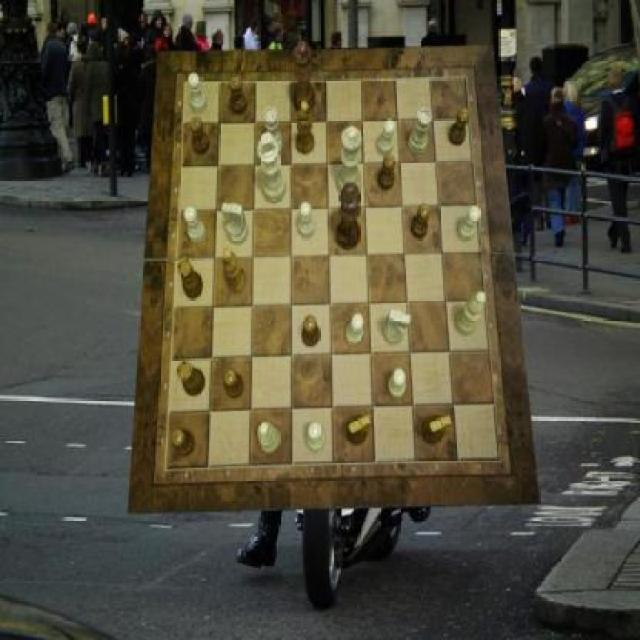bishop: (223, 248, 247, 294), (296, 101, 314, 156)
black-bishop: (337, 183, 361, 251)
black-king: (422, 414, 452, 444), (346, 414, 371, 446)
black-knight: (448, 108, 470, 146), (191, 117, 211, 155), (411, 204, 431, 240), (229, 77, 247, 115), (170, 429, 194, 457), (379, 152, 396, 190), (224, 368, 244, 398), (302, 315, 319, 348)
black-pawn: (294, 40, 317, 116)
black-queen: (177, 258, 203, 300), (177, 360, 206, 396)
black-rook: (454, 292, 486, 336), (257, 421, 280, 454)
white-bishop: (257, 133, 286, 204)
white-king: (222, 201, 248, 244), (383, 310, 411, 346)
white-knight: (457, 206, 480, 241), (185, 206, 207, 242), (188, 74, 207, 114), (377, 119, 395, 156), (299, 202, 316, 239), (346, 314, 364, 346), (388, 368, 405, 398), (308, 423, 325, 452)
white-pawn: (337, 126, 363, 199)
white-queen: (408, 110, 432, 156), (264, 106, 284, 156)
